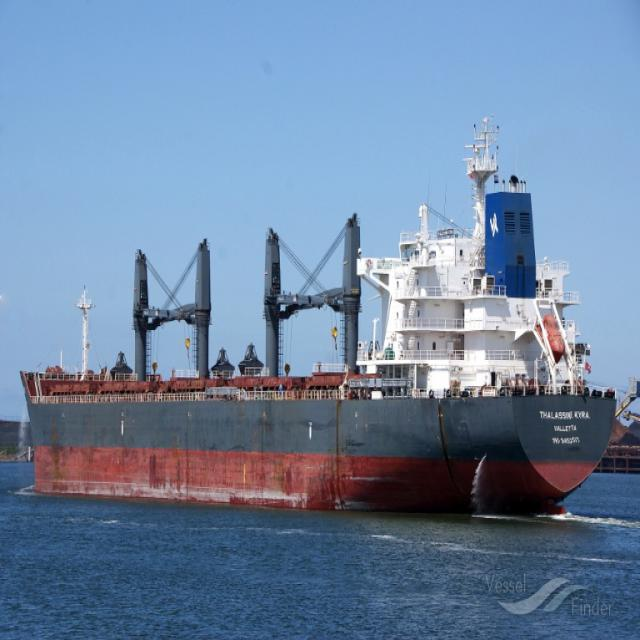OCR: (536, 406, 593, 458)
